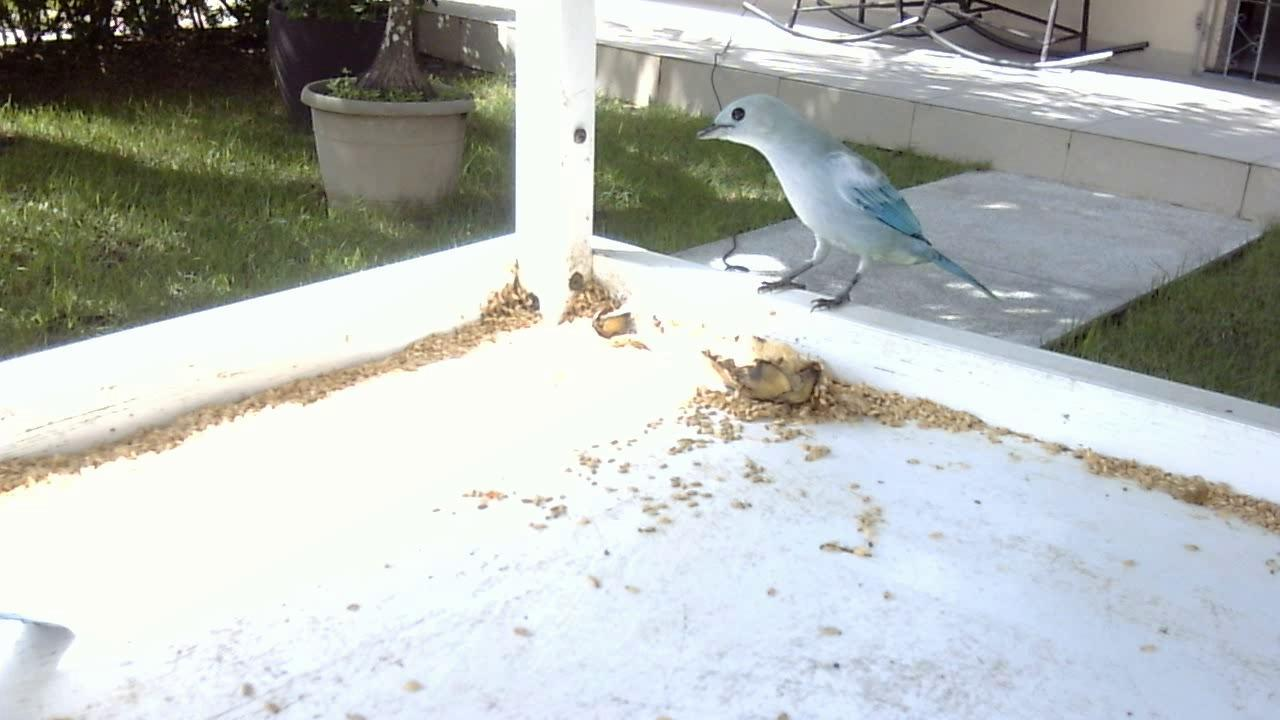sanhaco_da_amazonia: (680, 88, 1021, 327)
